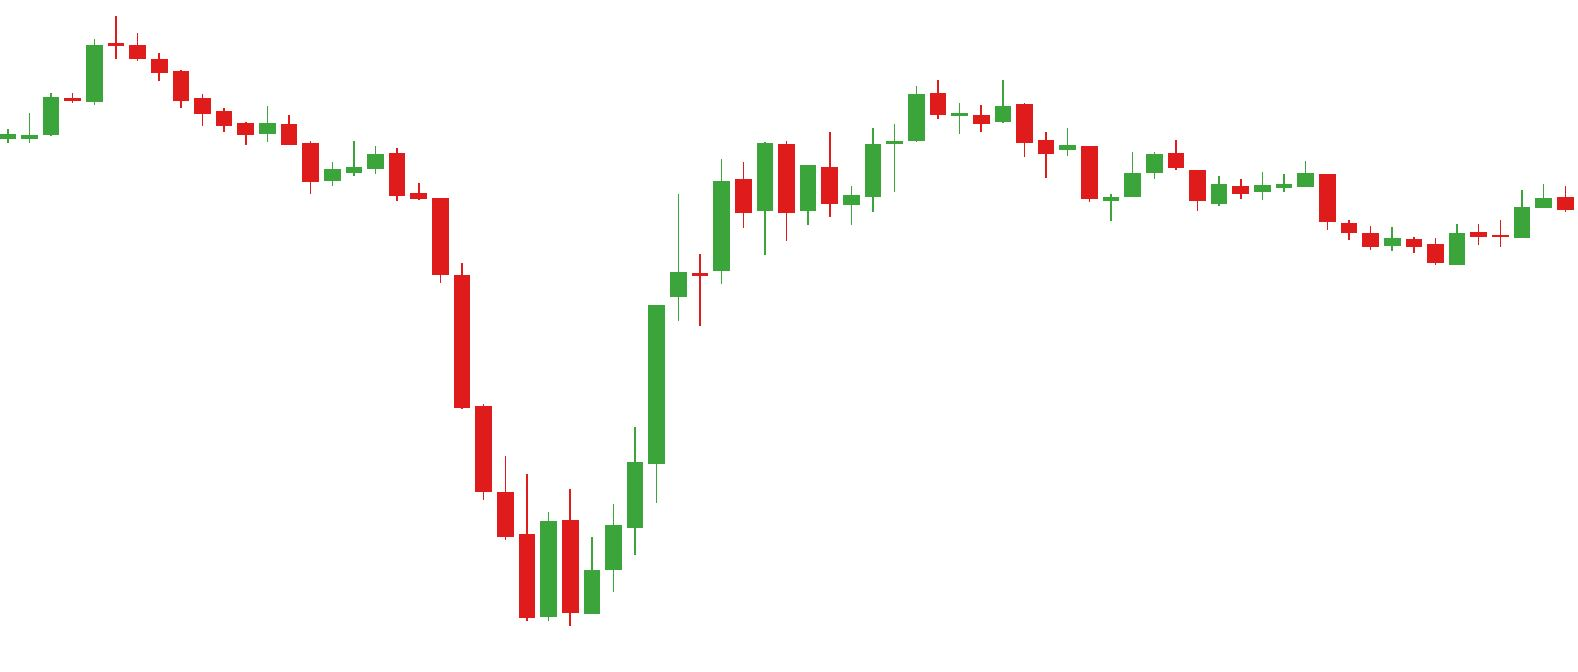sell: (819, 78, 1034, 179)
